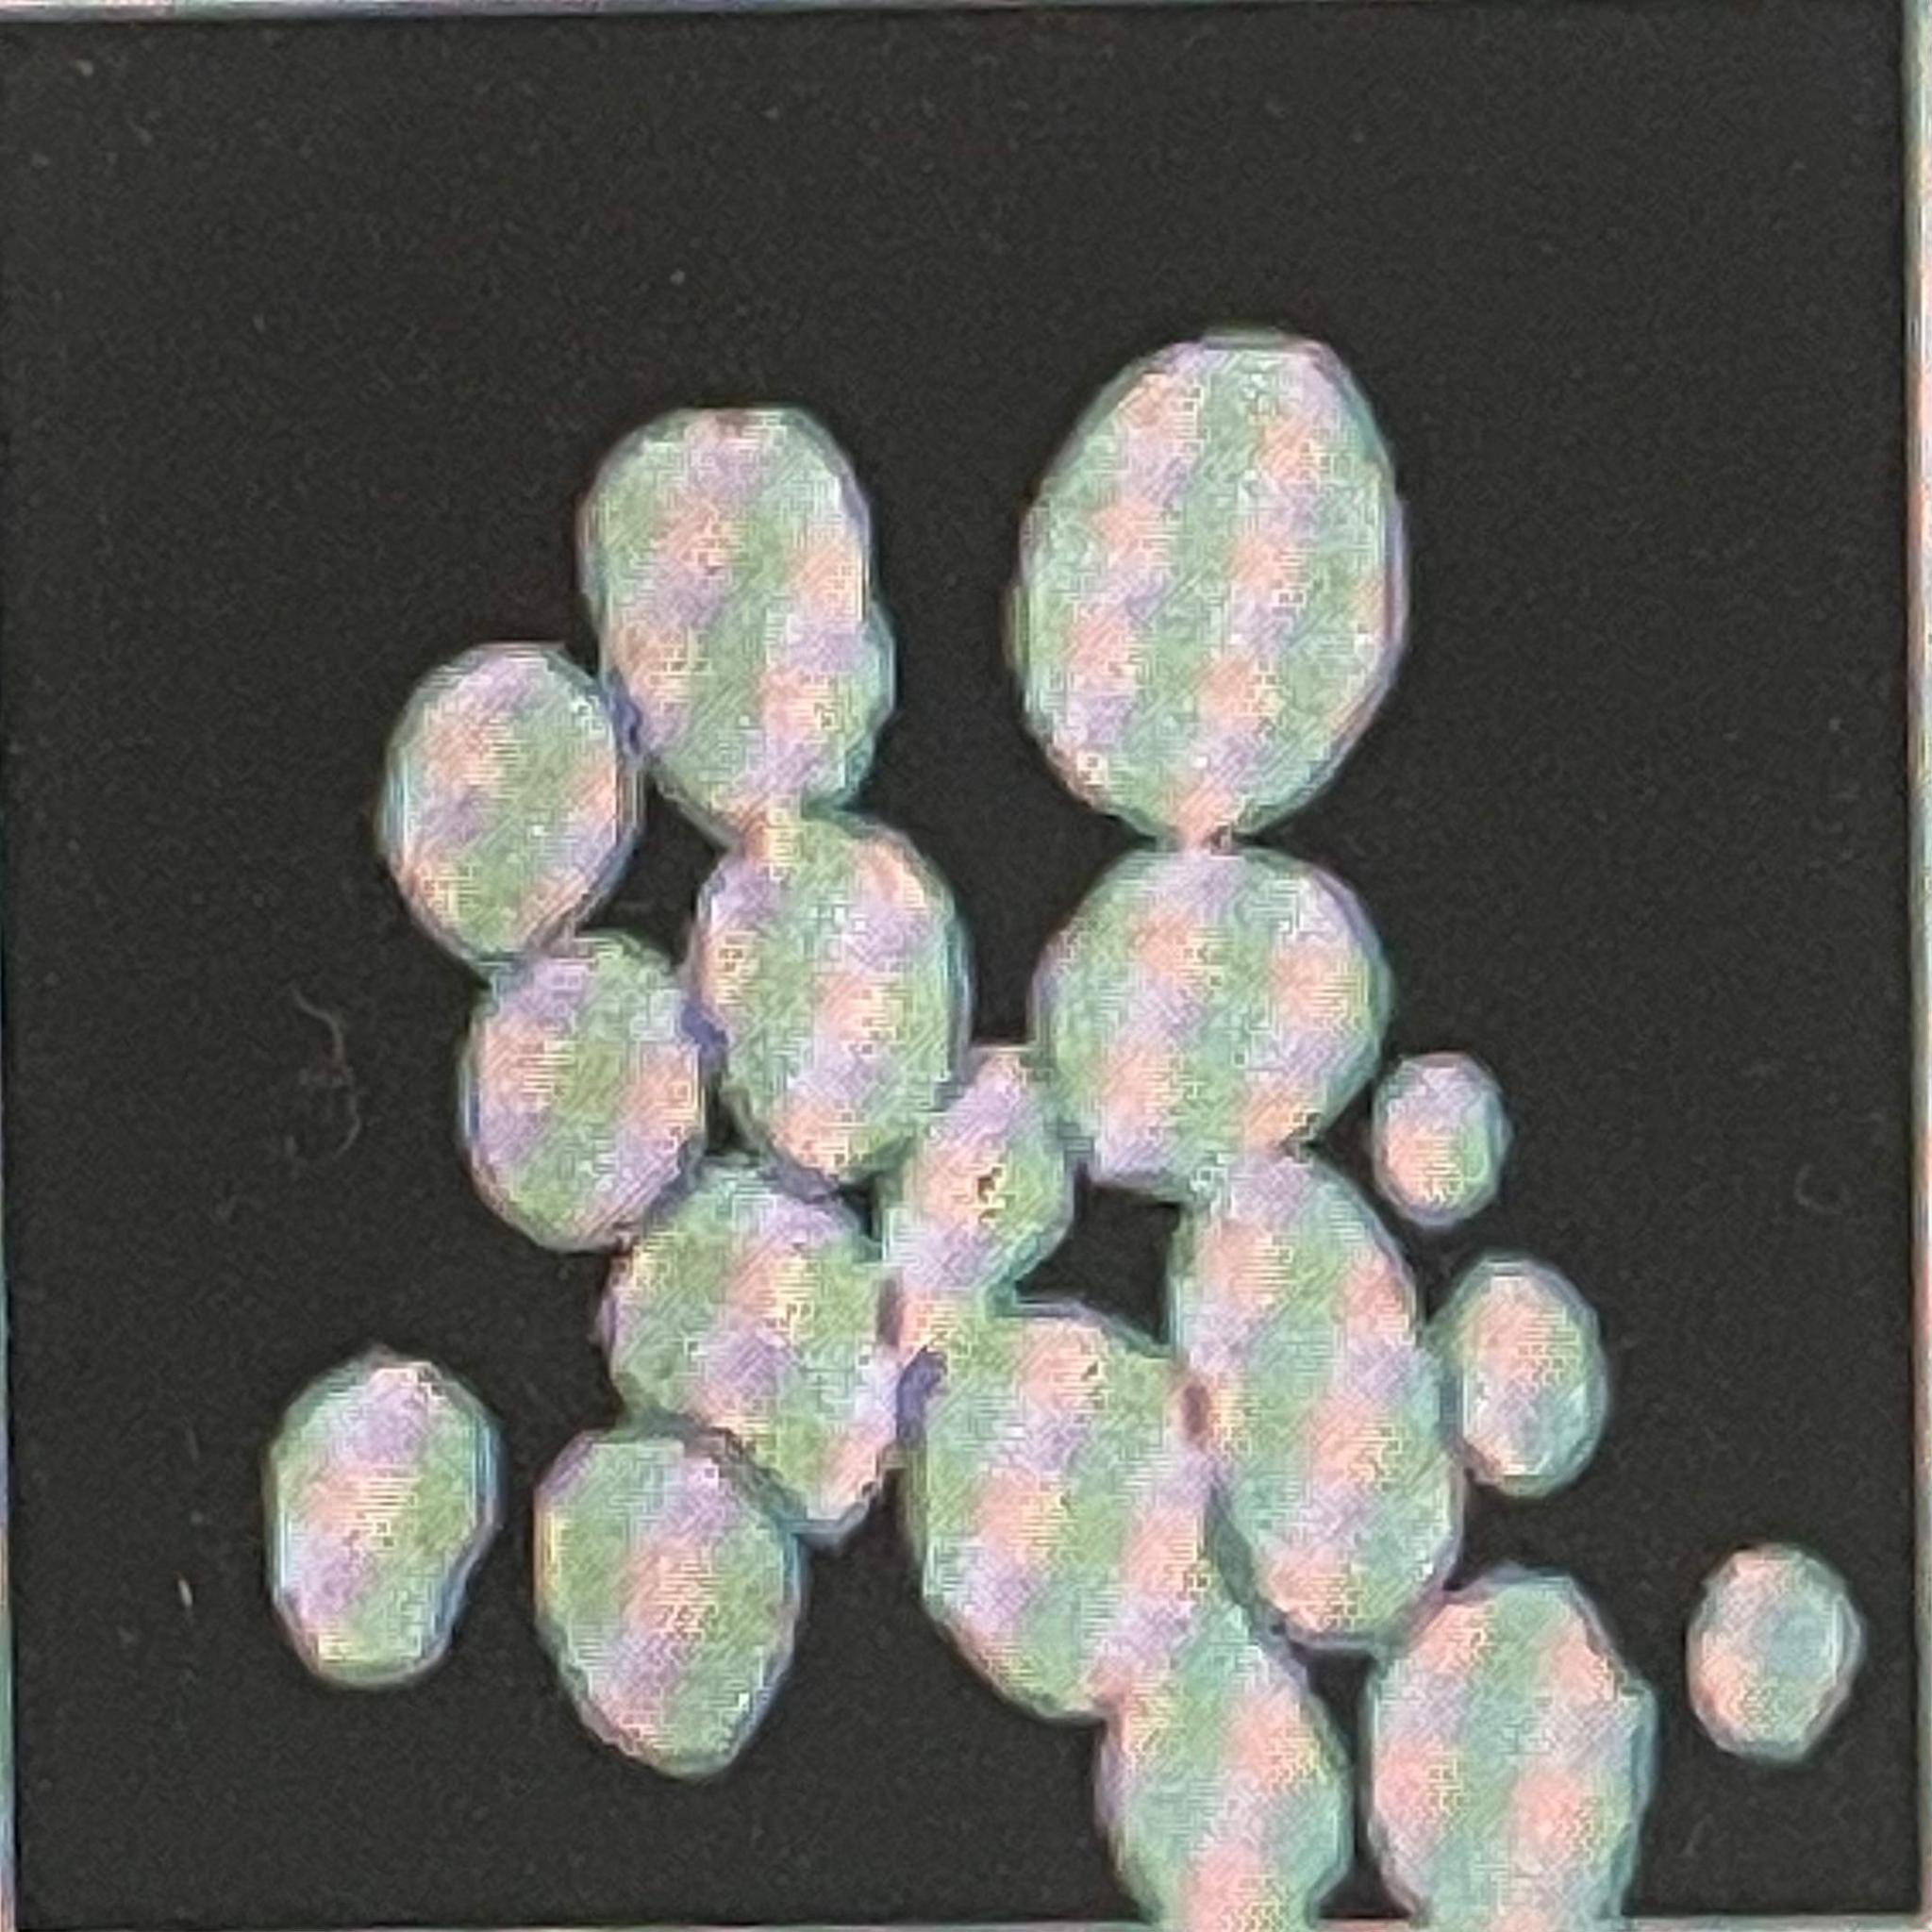cell: (906, 1307, 1352, 1932), (1012, 329, 1408, 849), (1171, 1157, 1465, 1651), (579, 405, 893, 846), (1033, 849, 1394, 1201), (598, 1155, 901, 1546), (1368, 1569, 1661, 1932), (690, 810, 971, 1185), (533, 1424, 801, 1782), (375, 644, 639, 970), (262, 1348, 497, 1691), (458, 932, 706, 1253), (883, 1046, 1074, 1361), (1431, 1254, 1612, 1500), (1690, 1546, 1868, 1767), (1373, 1053, 1514, 1231)
